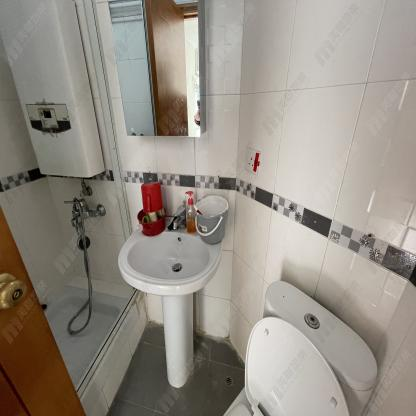Bathtub: (43, 274, 149, 416)
Toilet: (223, 276, 384, 416)
Toilet Sink: (116, 212, 226, 299)
